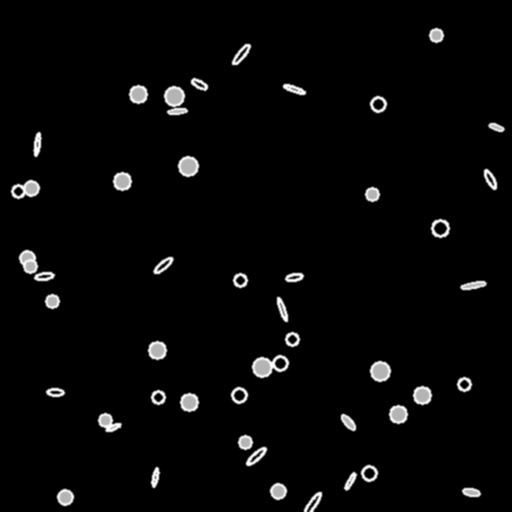pseudomonas: (231, 42, 251, 66), (245, 446, 267, 466), (302, 491, 322, 512), (275, 296, 289, 322), (153, 256, 173, 274), (339, 413, 357, 431), (482, 169, 498, 189), (343, 471, 357, 491), (283, 83, 305, 95), (460, 280, 486, 290), (191, 77, 207, 91), (34, 271, 54, 281), (33, 132, 41, 156), (285, 272, 303, 282), (105, 422, 121, 432), (488, 122, 504, 132), (151, 467, 159, 487), (167, 107, 187, 115), (463, 488, 479, 496), (47, 388, 63, 396)
synechocystis: (253, 358, 271, 376), (371, 362, 389, 380), (179, 157, 197, 175), (165, 87, 183, 105), (414, 387, 430, 403), (114, 173, 130, 189), (432, 220, 448, 236), (390, 406, 406, 422), (130, 86, 146, 102), (149, 342, 165, 358), (181, 394, 197, 410), (371, 97, 385, 111), (58, 490, 72, 504), (273, 356, 287, 370), (271, 484, 285, 498), (24, 181, 38, 195), (362, 466, 376, 480), (20, 251, 34, 265), (232, 388, 246, 402), (12, 185, 24, 197), (286, 333, 298, 345), (239, 436, 251, 448), (152, 391, 164, 403), (366, 188, 378, 200), (234, 274, 246, 286), (46, 295, 58, 307), (24, 260, 36, 272), (99, 414, 111, 426), (430, 29, 442, 41), (458, 378, 470, 390)
